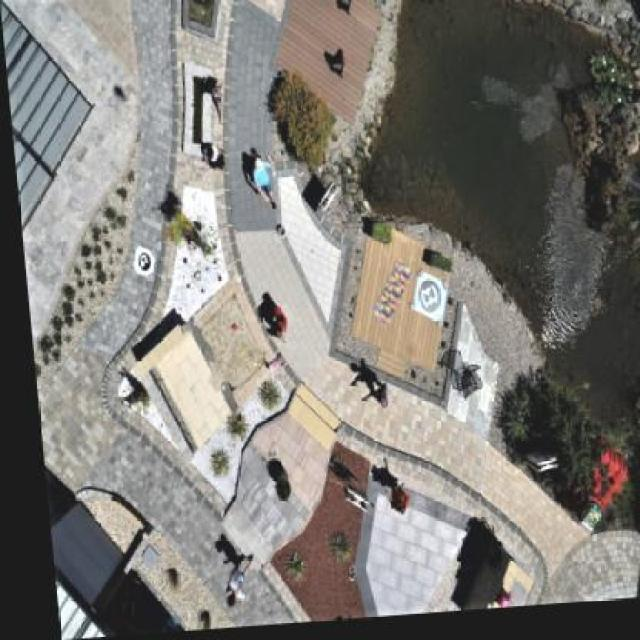Person: (237, 149, 278, 216), (352, 382, 392, 420), (254, 310, 294, 348)
